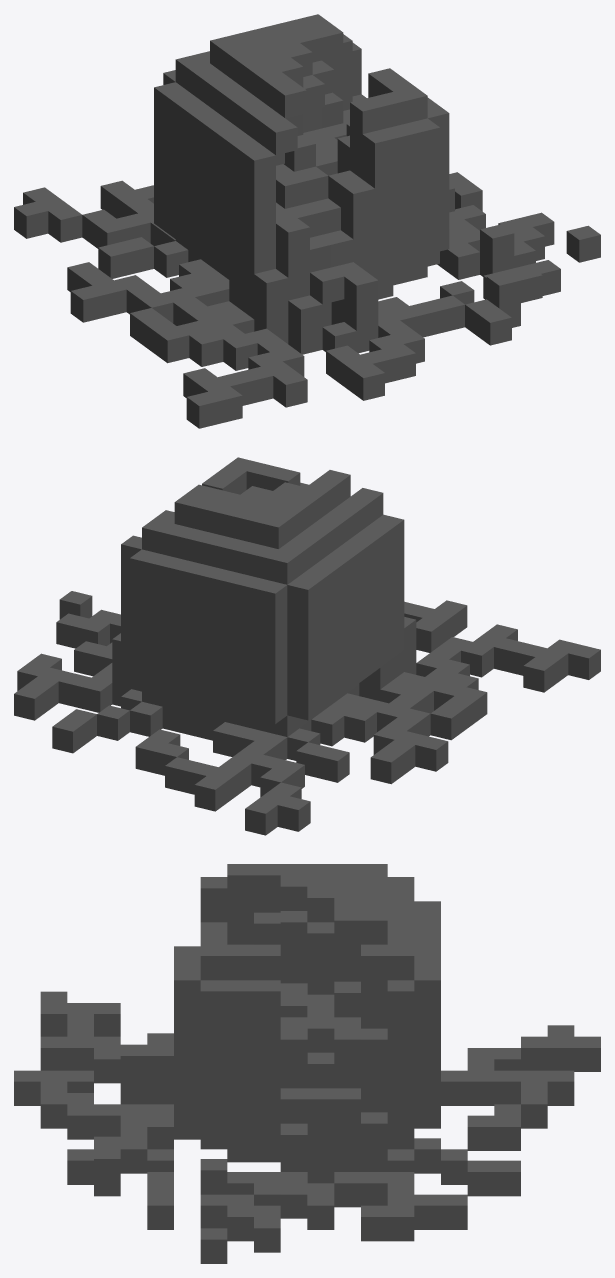
The model's file is alien_egg2.obj.
3 renders of one model, top to bottom at view 1: azimuth 30°, elevation 25°; view 2: azimuth 150°, elevation 25°; view 3: azimuth 270°, elevation 25°, orthographic. The views are drawn at different scales.
Bounding box in the file's own units: 22 × 10 × 22.
